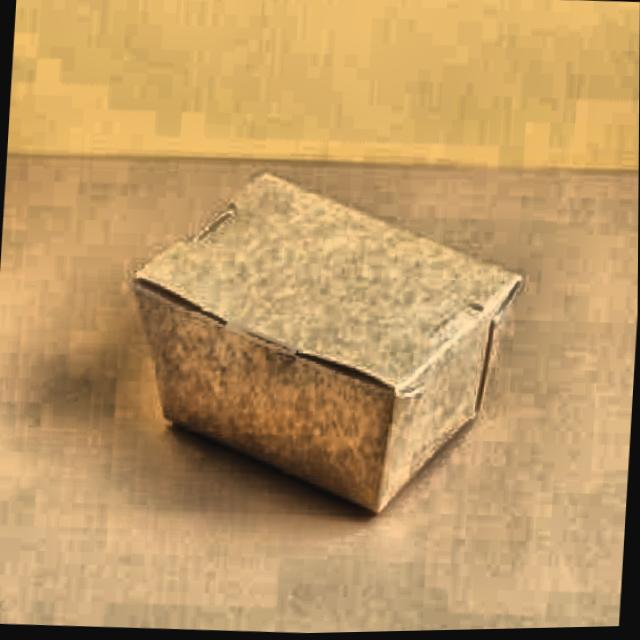Cardbox: (110, 143, 558, 547)
